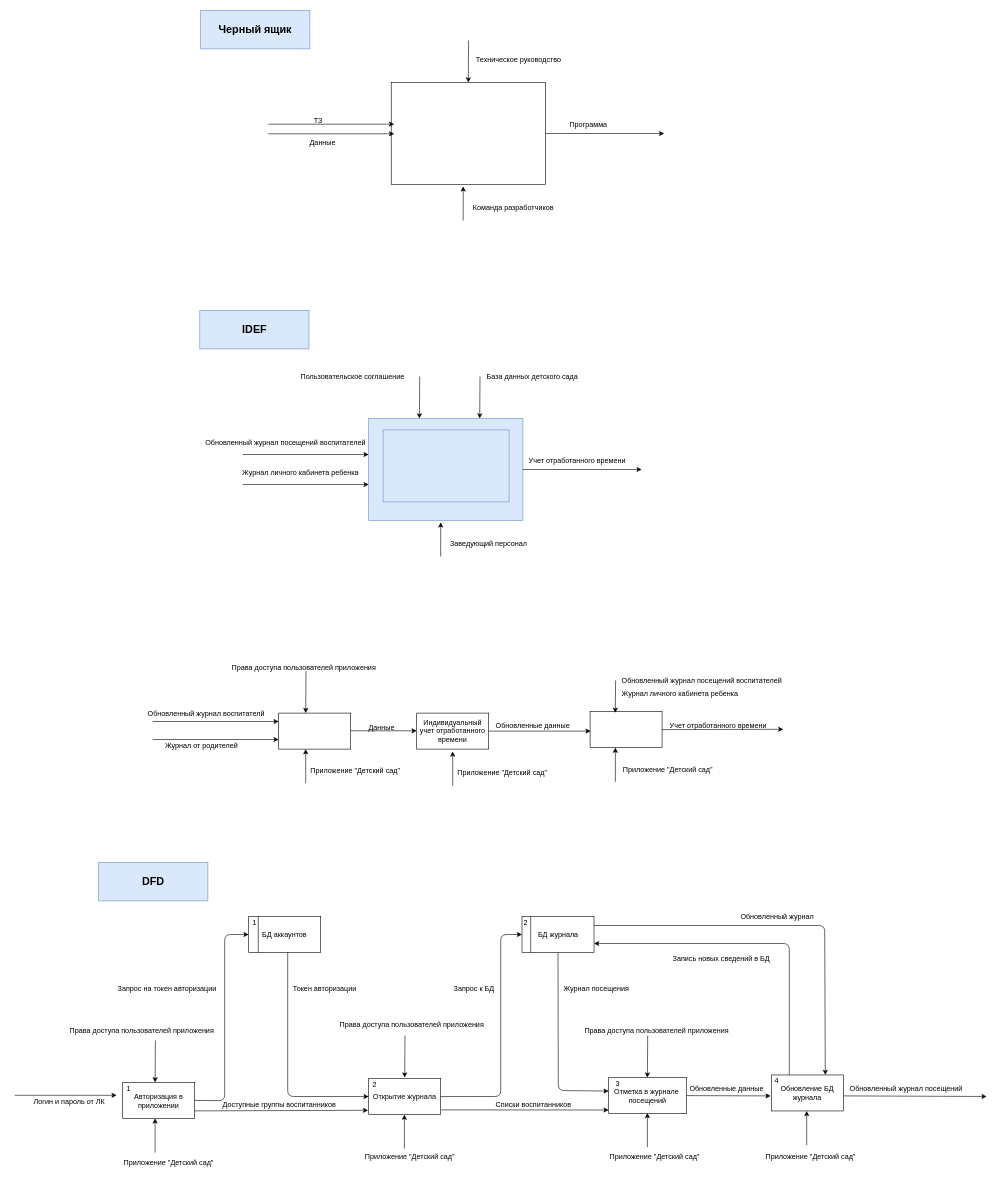
Some shapes in this 1002 by 1179 pixel diagram are drawn without their labels. The centre of each missing label's shape, as x and y in pixels:
Заведующий: [445,465]
Заполнение журнала: [626,729]
Обработка данных: [314,730]
Создание программы "Детский сад": [468,133]
